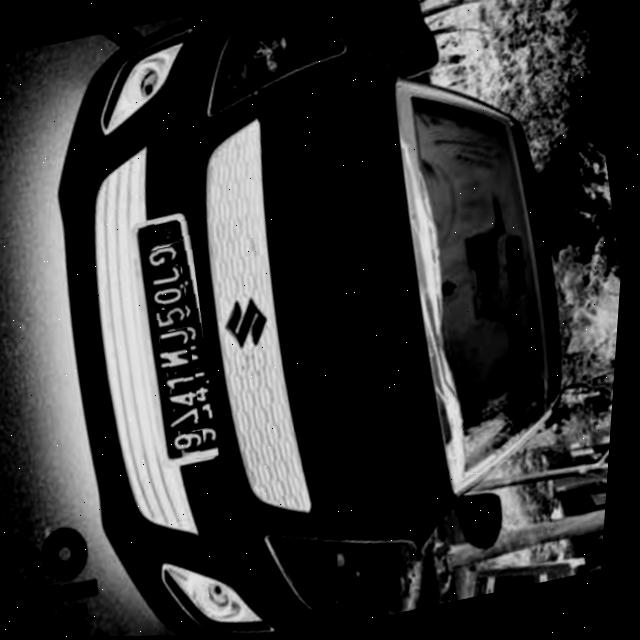0: (154, 284, 190, 311)
1: (168, 372, 202, 393)
4: (171, 391, 204, 412)
5: (156, 305, 192, 330)
7: (171, 407, 211, 435)
9: (175, 431, 211, 455)
G: (144, 245, 184, 270)
IND: (148, 223, 185, 250)
Indian_registered: (140, 216, 225, 462)
J: (150, 266, 186, 290), (162, 329, 194, 350)
N: (161, 346, 199, 376)
